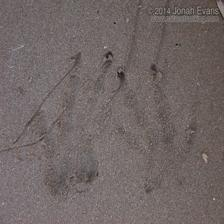beaver: (35, 44, 126, 195)
